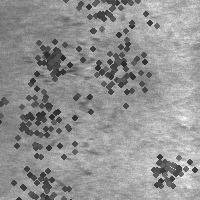rolled-in_scale: (0, 54, 98, 174), (74, 16, 168, 110), (23, 15, 114, 94), (58, 0, 166, 54), (47, 89, 116, 161), (0, 147, 87, 200), (138, 142, 186, 190), (45, 148, 90, 199), (26, 33, 70, 77)
